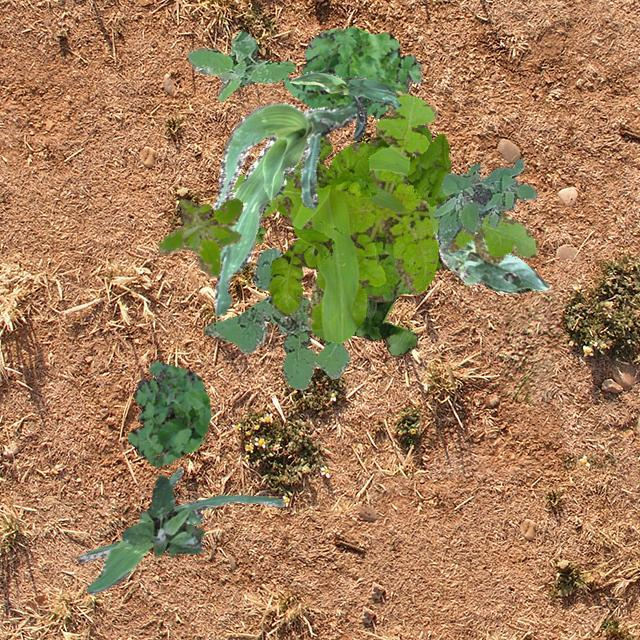crop: (212, 100, 356, 314), (76, 466, 284, 594), (288, 70, 399, 140), (432, 228, 548, 292)
weed: (230, 90, 538, 342), (268, 114, 450, 314), (204, 246, 348, 388), (280, 26, 420, 118), (432, 157, 536, 250), (127, 360, 210, 466), (186, 30, 294, 100), (156, 198, 242, 276), (121, 474, 202, 556), (352, 282, 417, 354), (253, 164, 300, 242)
